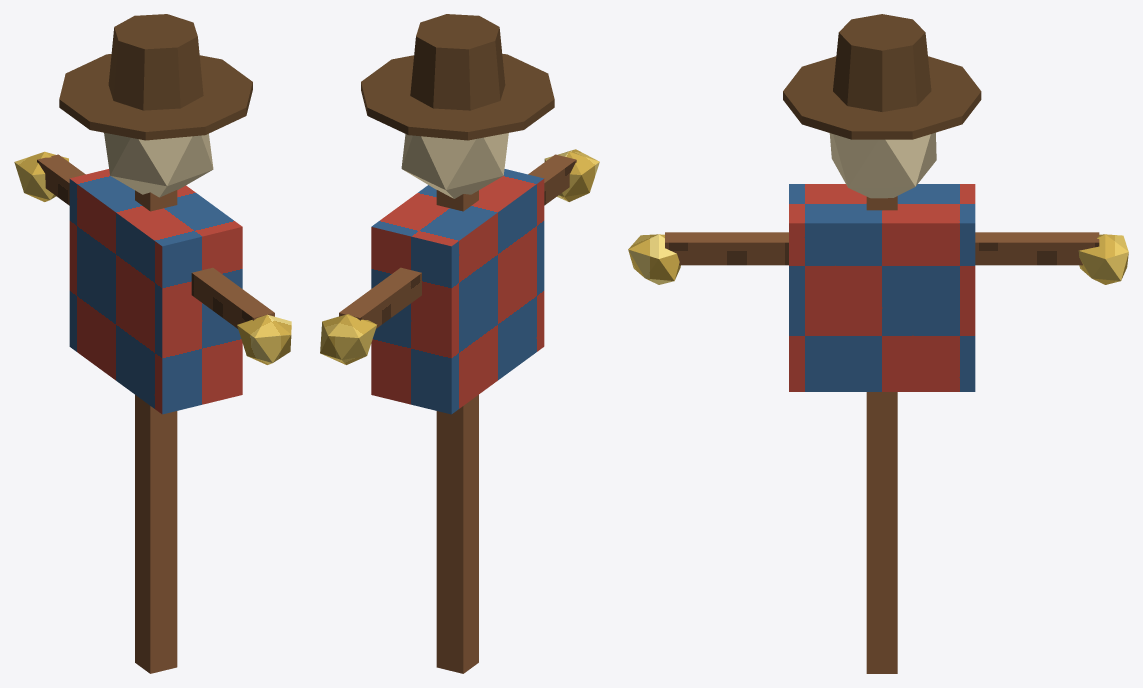
Rendered from scarecrow.glb.
The picture shows the model from 3 angles, left to right: view 1: azimuth 30°, elevation 25°; view 2: azimuth 150°, elevation 25°; view 3: azimuth 270°, elevation 25°; orthographic projection.
Visible parts, largest first — view 1: scarecrow; view 2: scarecrow; view 3: scarecrow.
Boxes of the visible parts, x1,y1,x2,y2 form: scarecrow: (14,14,291,673); scarecrow: (320,14,599,673); scarecrow: (628,14,1128,673).
Bounding box in the file's own units: 0.6087 × 2.26 × 1.61.
Materials: 5 (3 with a texture image).
